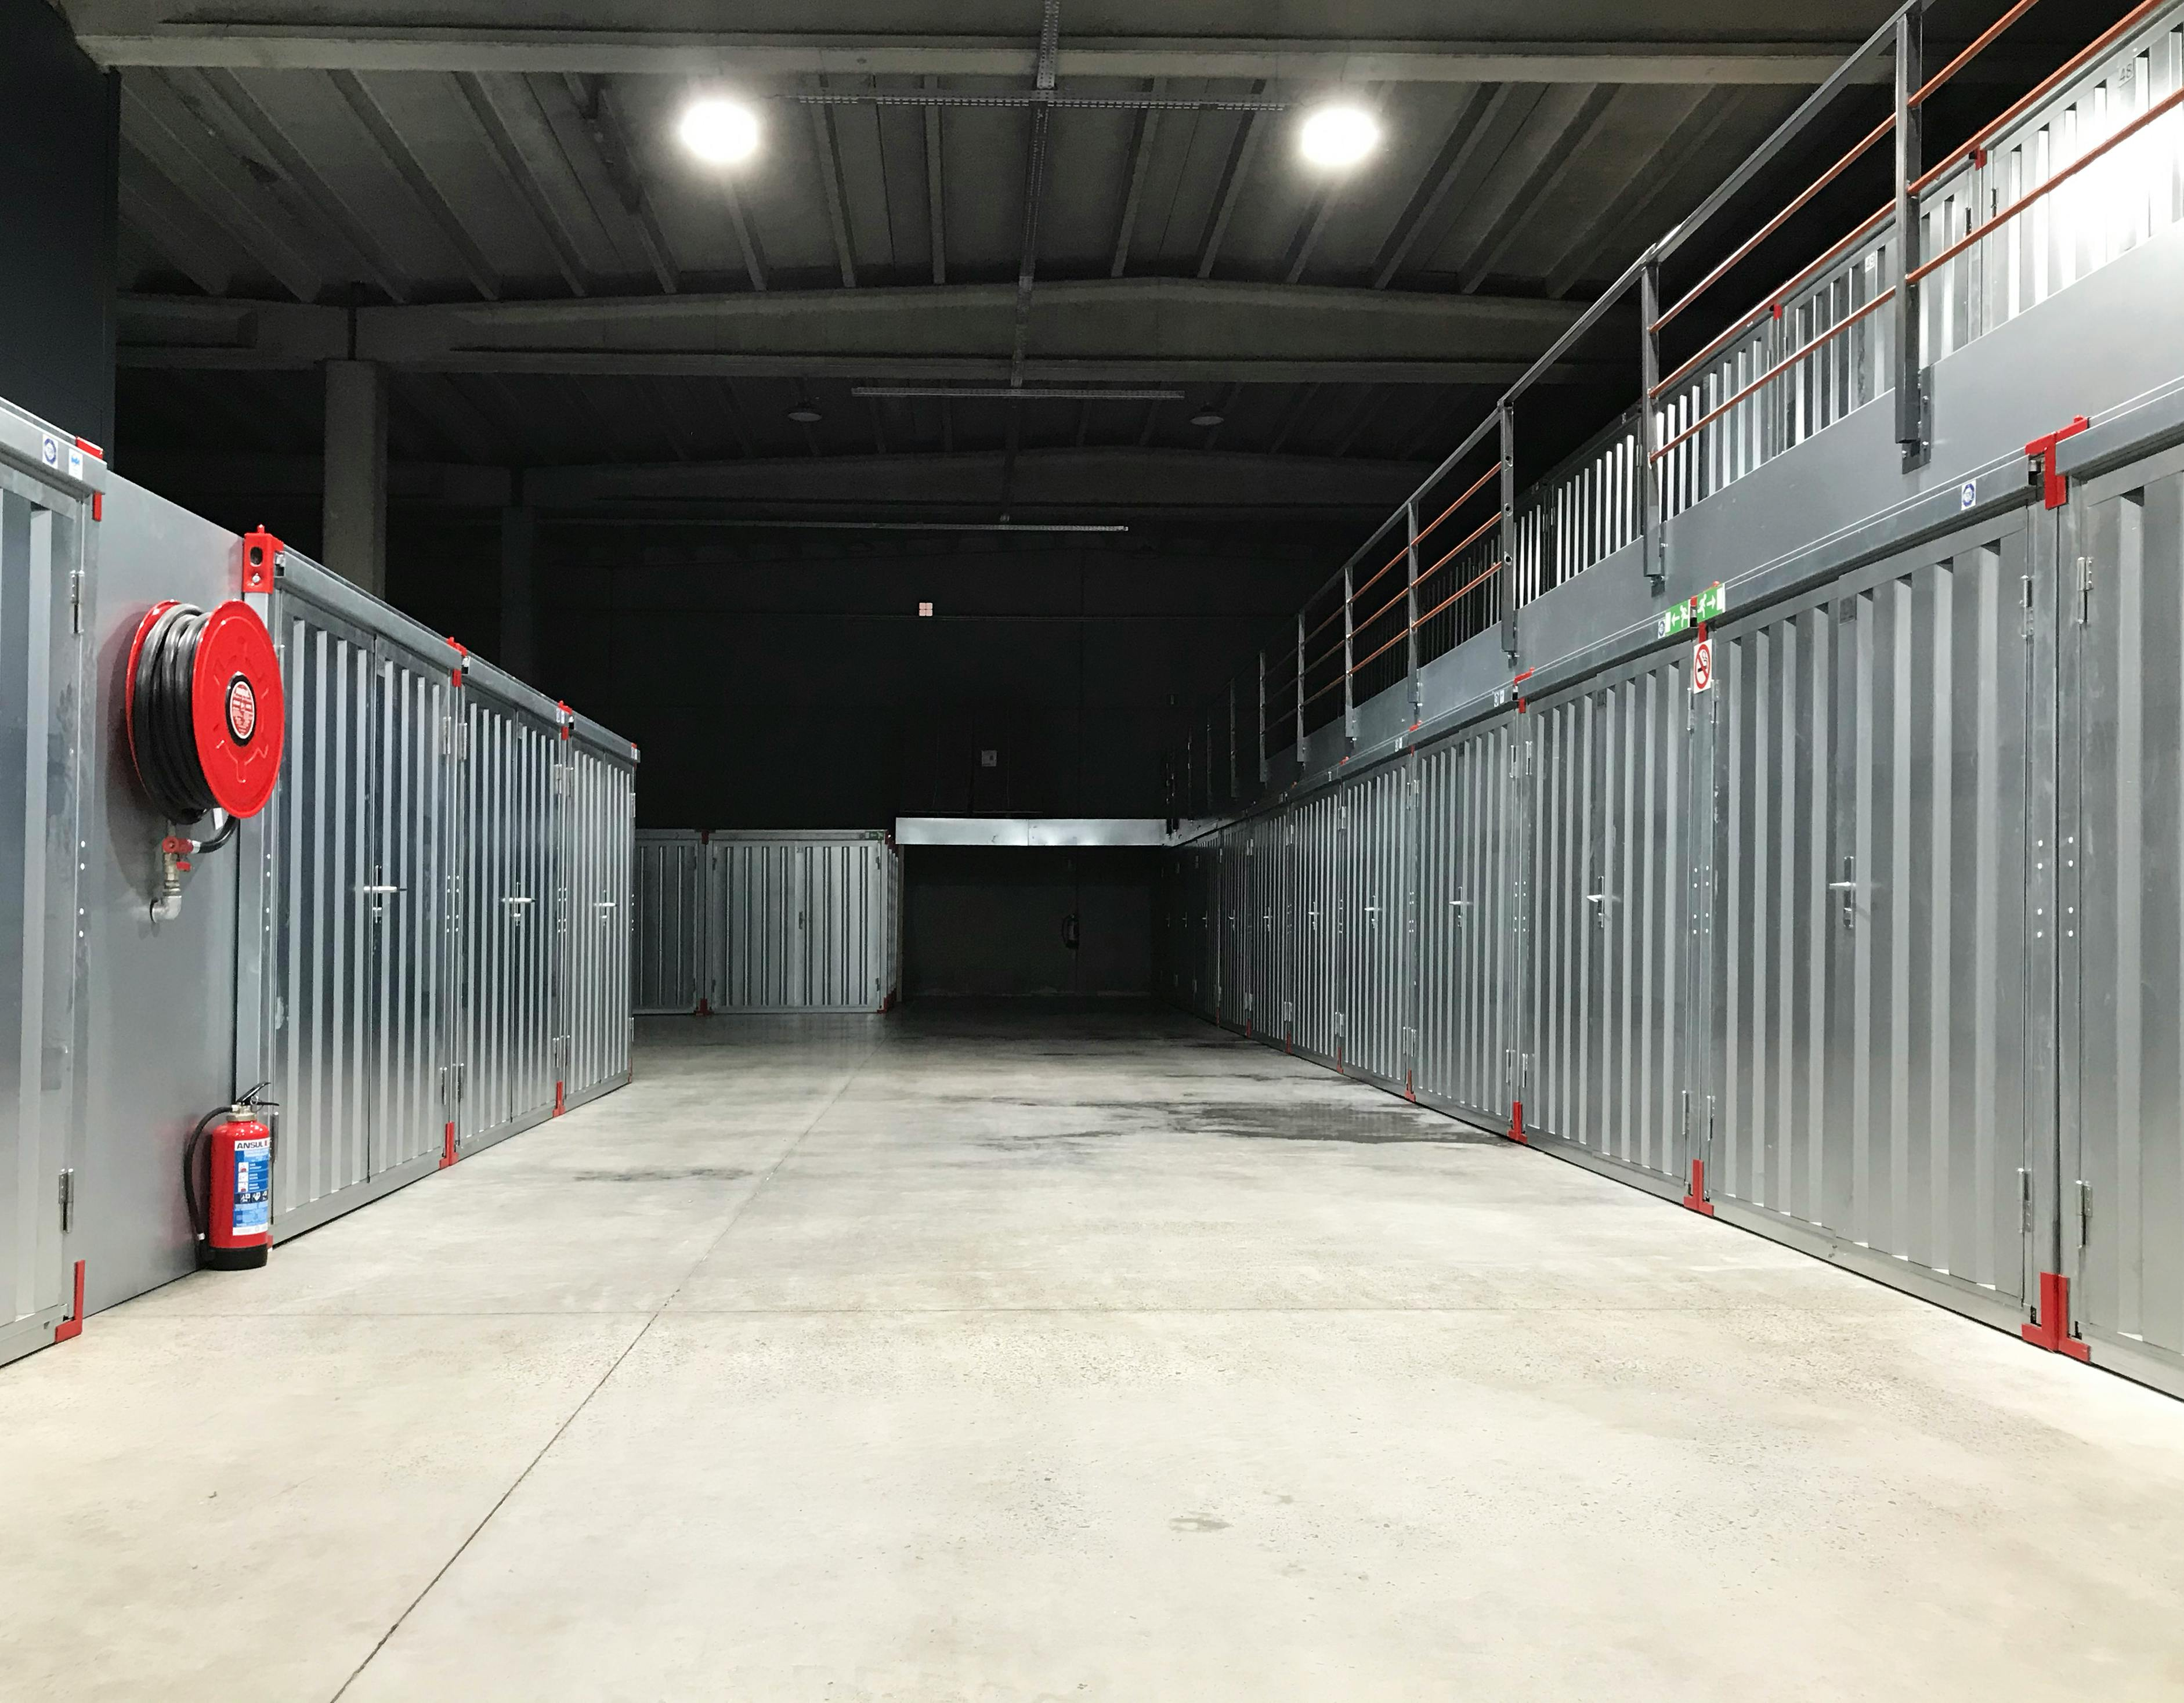extintor: (175, 1076, 285, 1274)
